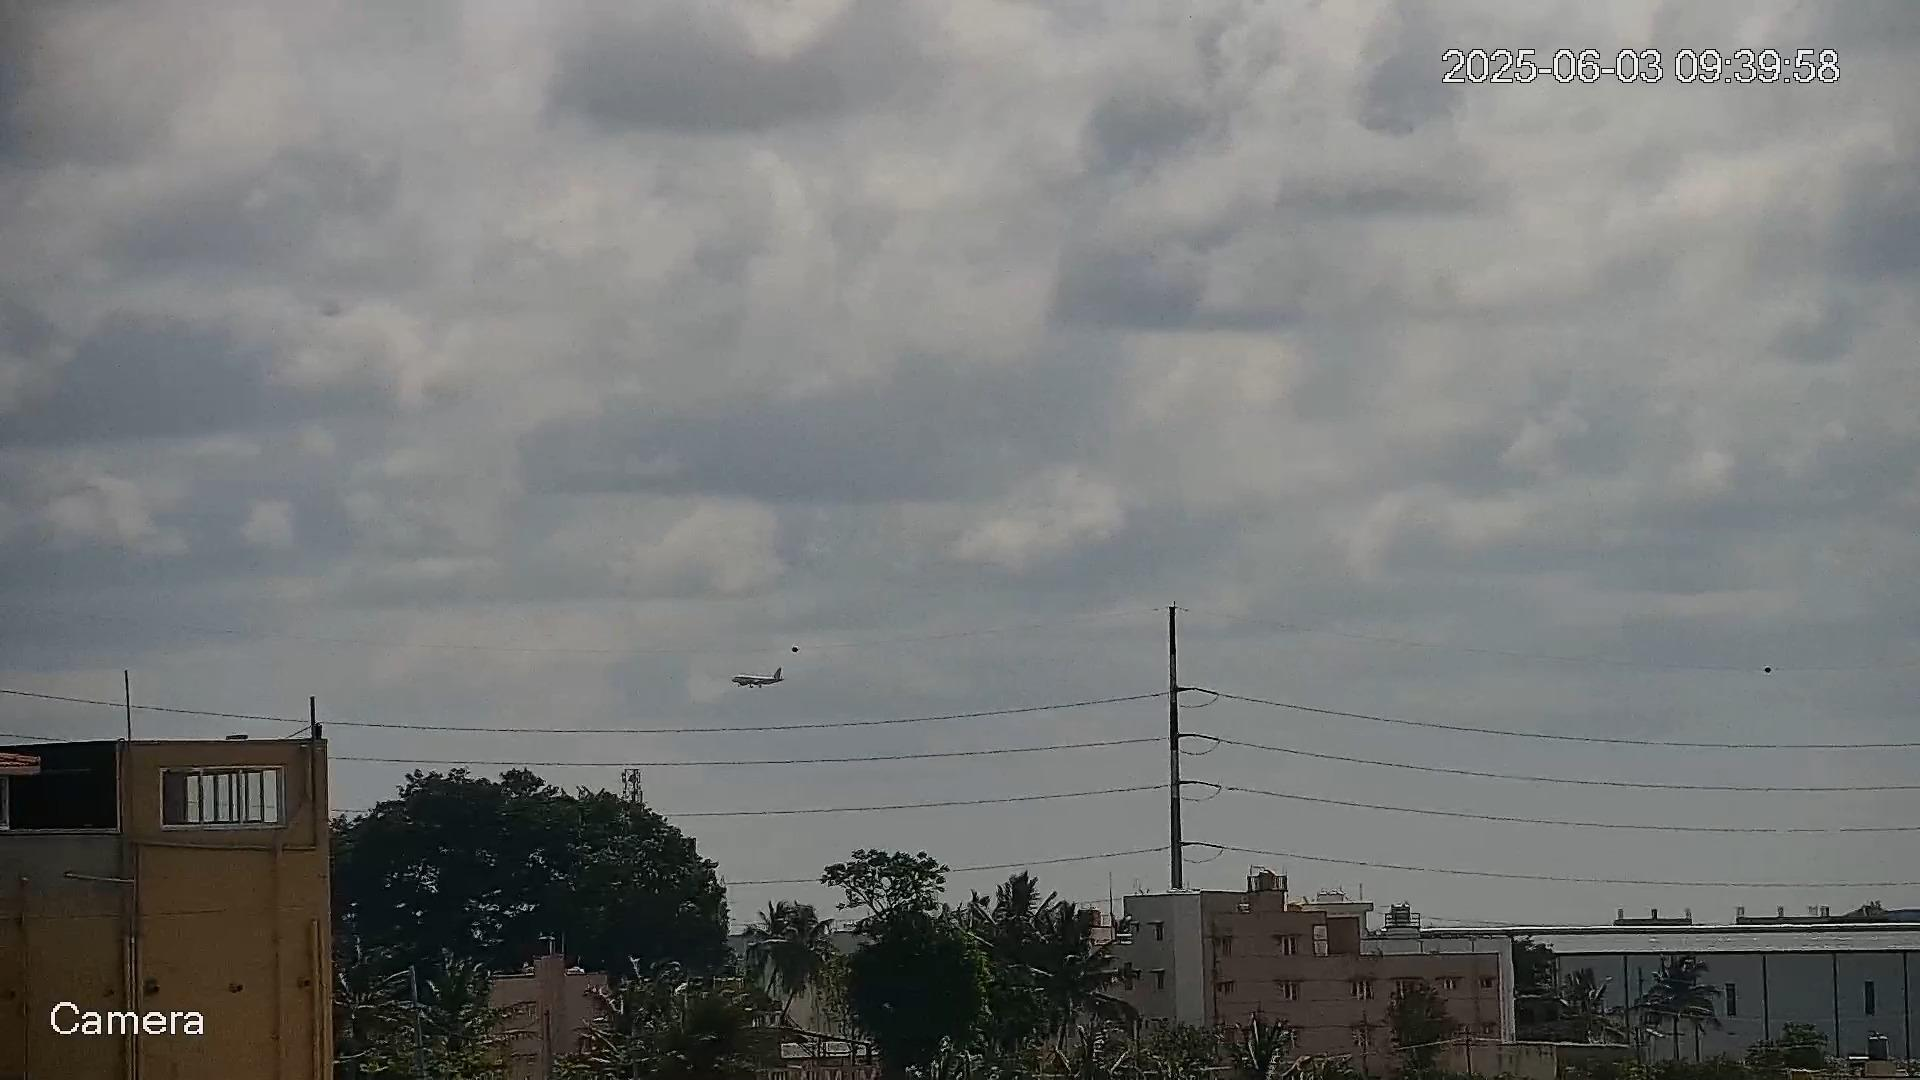Aircraft: (731, 667, 787, 688)
